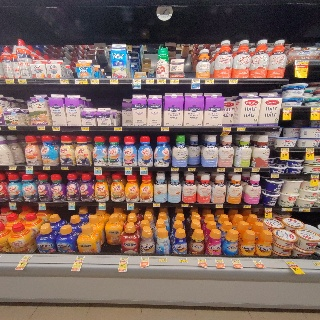All PRICE TAGS: (295, 60, 308, 66), (75, 79, 87, 83), (285, 260, 296, 264), (170, 79, 180, 83), (81, 126, 89, 131), (23, 255, 31, 260), (282, 208, 292, 212), (284, 107, 292, 112), (120, 257, 128, 262), (158, 257, 166, 262), (229, 79, 238, 83), (192, 79, 201, 83), (157, 79, 166, 83), (145, 79, 154, 83), (110, 79, 119, 83), (90, 79, 99, 83), (60, 79, 69, 83), (18, 79, 27, 83), (311, 107, 320, 111), (181, 203, 190, 207), (252, 167, 259, 172), (141, 257, 148, 262), (299, 208, 310, 211), (217, 168, 225, 172), (140, 167, 148, 171), (162, 127, 170, 131), (114, 127, 122, 131), (206, 79, 214, 83), (133, 79, 141, 83), (6, 79, 14, 83), (232, 259, 240, 263), (215, 259, 223, 263), (198, 258, 206, 262), (179, 258, 187, 262), (37, 126, 45, 130), (8, 126, 16, 130), (9, 166, 17, 170), (76, 256, 84, 260), (306, 148, 314, 152), (235, 168, 242, 172), (171, 167, 178, 171), (125, 167, 132, 171), (95, 167, 102, 171), (43, 166, 50, 170), (26, 166, 33, 170), (238, 127, 245, 131), (223, 127, 230, 131), (52, 126, 59, 130), (9, 202, 16, 206), (271, 174, 278, 178), (127, 203, 134, 207), (153, 203, 160, 207), (216, 204, 223, 208), (244, 204, 251, 208), (265, 207, 272, 211), (188, 168, 196, 171), (253, 260, 261, 263), (281, 148, 289, 151), (99, 202, 105, 206), (69, 202, 76, 205), (39, 203, 46, 206), (61, 167, 68, 170), (312, 175, 319, 178)
